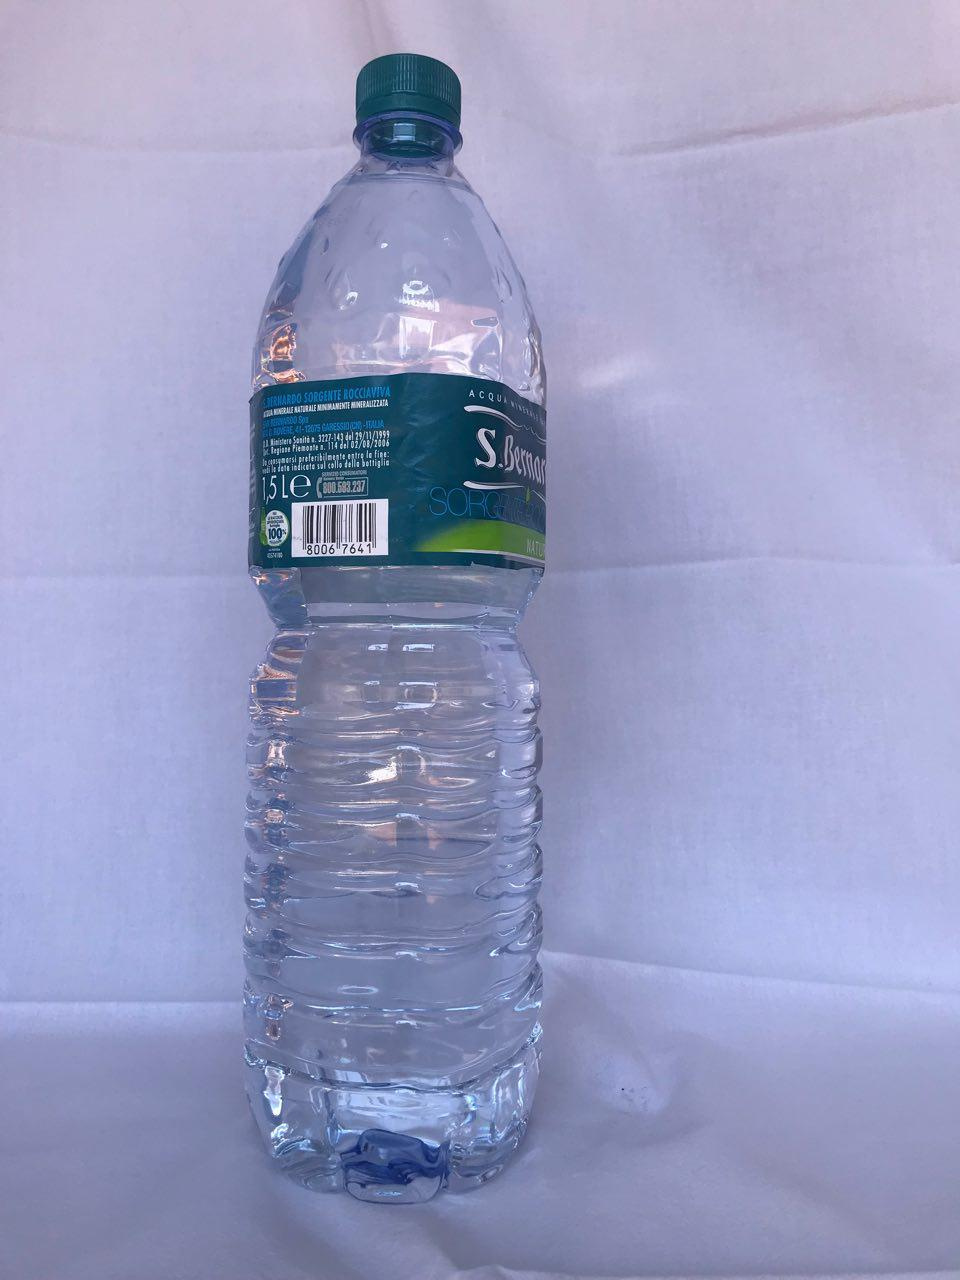san_bernardo: (239, 49, 549, 1210)
